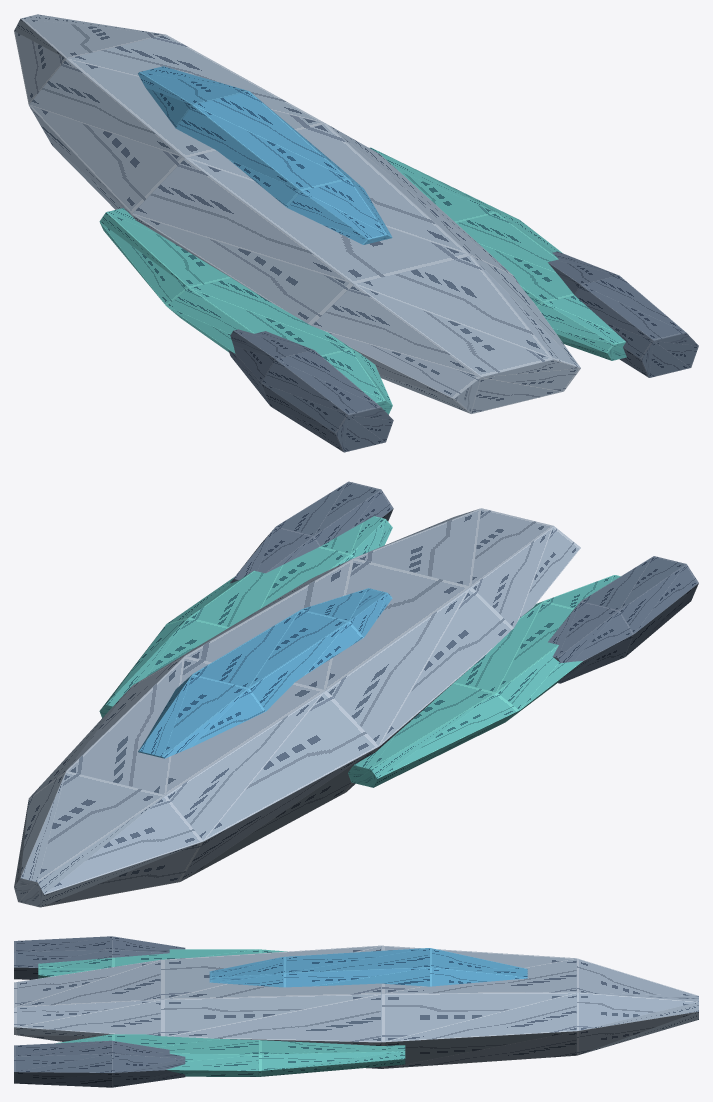
The model's file is SurveyScout.gltf.
3 renders of one model, top to bottom at view 1: azimuth 30°, elevation 25°; view 2: azimuth 150°, elevation 25°; view 3: azimuth 270°, elevation 25°, orthographic. The views are drawn at different scales.
Parts seen in each view (by area): view 1: Kestrel survey scout; view 2: Kestrel survey scout; view 3: Kestrel survey scout.
Boxes of the visible parts, x1,y1,x2,y2 form: Kestrel survey scout: [14, 14, 698, 452]; Kestrel survey scout: [14, 481, 698, 907]; Kestrel survey scout: [14, 936, 698, 1087].
Size of the model in its own units: 12.34 by 3.63 by 28.
Materials: 1 (1 with a texture image).
